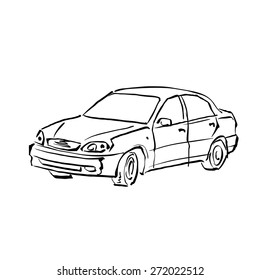car: (26, 84, 239, 189)
